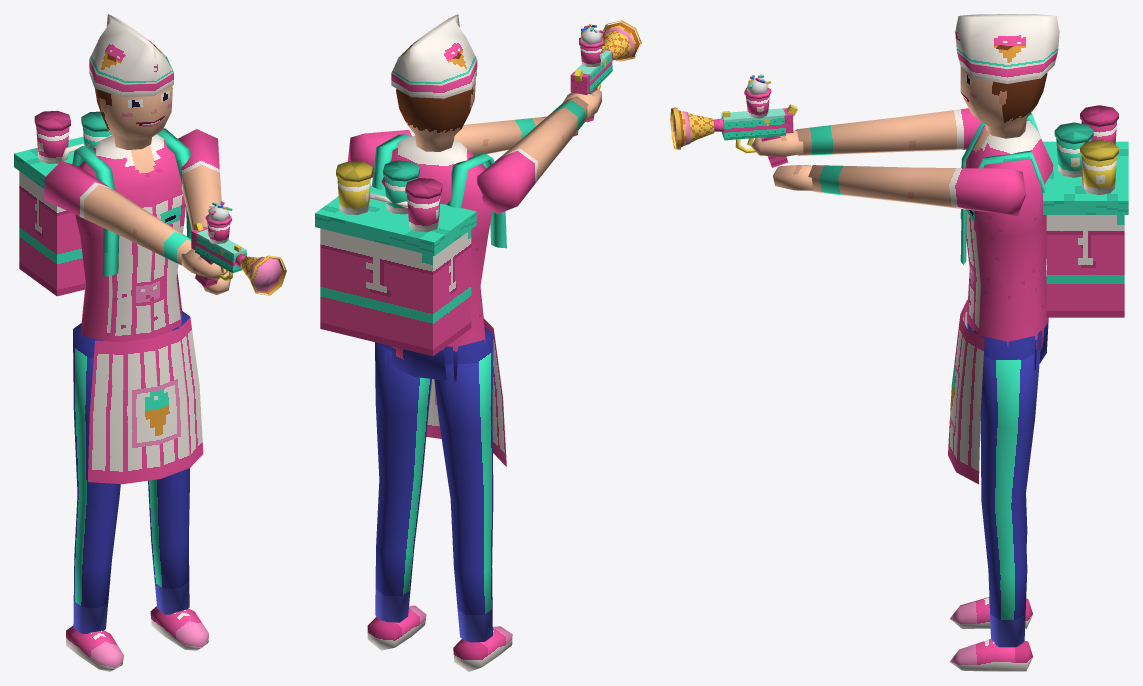
Rendered from Player Pink.fbx.
3 views of the same model, side by side, from view 1: azimuth 30°, elevation 25°; view 2: azimuth 150°, elevation 25°; view 3: azimuth 270°, elevation 25° (orthographic). The views are drawn at different scales.
Parts seen in each view (by area): view 1: Player Pink apron, Player Pink torso, Player Pink leg R.001, Player Pink arm R arm, Player Pink cooler, Player Pink leg L.001, Player Pink hat, Player Pink head, Player Pink arm L arm, Player Pink shoe L, Player Pink shoe R, Player Pink strap -1 (+9 smaller); view 2: Player Pink cooler, Player Pink leg R.001, Player Pink leg L.001, Player Pink torso, Player Pink arm R arm, Player Pink hat, Player Pink cooler lid, Player Pink head, Player Pink arm L arm, Player Pink apron, Player Pink strap -1, Player Pink shoe R (+10 smaller); view 3: Player Pink leg L.001, Player Pink torso, Player Pink cooler, Player Pink arm L arm, Player Pink hat, Player Pink arm R arm, Player Pink apron, Player Pink head, Player Pink cooler lid, Player Pink shoe L, Player Pink body, Player Pink pint 2 (+9 smaller).
Boxes of the visible parts, bbox=[...] form: Player Pink apron: bbox=[88, 317, 203, 484]; Player Pink torso: bbox=[75, 134, 185, 342]; Player Pink leg R.001: bbox=[73, 323, 120, 633]; Player Pink arm R arm: bbox=[44, 161, 191, 265]; Player Pink cooler: bbox=[19, 171, 85, 296]; Player Pink leg L.001: bbox=[148, 311, 190, 614]; Player Pink hat: bbox=[89, 14, 173, 97]; Player Pink head: bbox=[95, 44, 172, 149]; Player Pink arm L arm: bbox=[178, 129, 221, 230]; Player Pink shoe L: bbox=[150, 606, 208, 650]; Player Pink shoe R: bbox=[66, 625, 123, 671]; Player Pink strap -1: bbox=[72, 146, 119, 276]; Player Pink cooler: bbox=[320, 228, 471, 356]; Player Pink leg R.001: bbox=[434, 327, 493, 642]; Player Pink leg L.001: bbox=[375, 342, 431, 622]; Player Pink torso: bbox=[372, 135, 492, 381]; Player Pink arm R arm: bbox=[477, 96, 588, 214]; Player Pink hat: bbox=[391, 14, 477, 98]; Player Pink cooler lid: bbox=[315, 185, 476, 256]; Player Pink head: bbox=[396, 45, 475, 151]; Player Pink arm L arm: bbox=[347, 117, 543, 177]; Player Pink apron: bbox=[426, 318, 506, 466]; Player Pink strap -1: bbox=[446, 153, 506, 248]; Player Pink shoe R: bbox=[453, 626, 512, 671]; Player Pink leg L.001: bbox=[973, 330, 1041, 647]; Player Pink torso: bbox=[965, 121, 1053, 370]; Player Pink cooler: bbox=[1046, 215, 1124, 317]; Player Pink arm L arm: bbox=[808, 165, 1025, 215]; Player Pink hat: bbox=[955, 14, 1059, 83]; Player Pink arm R arm: bbox=[795, 108, 985, 155]; Player Pink apron: bbox=[948, 300, 984, 484]; Player Pink head: bbox=[960, 45, 1047, 138]; Player Pink cooler lid: bbox=[1043, 141, 1128, 214]; Player Pink shoe L: bbox=[950, 639, 1032, 671]; Player Pink body: bbox=[721, 108, 786, 140]; Player Pink pint 2: bbox=[1081, 155, 1117, 194].
Bounding box in the file's own units: 0.5216 × 1.8 × 1.18.
32 materials, 31 textured.
